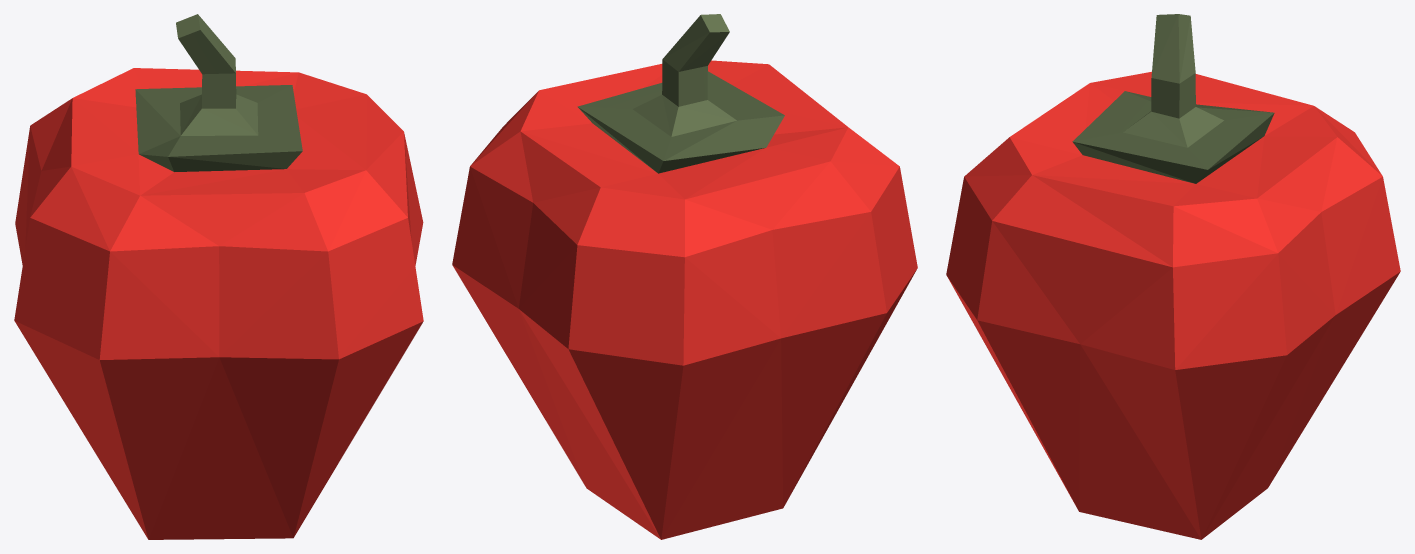
Rendered from SM_Food_Pepper_01.fbx.
The picture shows the model from 3 angles, left to right: view 1: azimuth 30°, elevation 25°; view 2: azimuth 150°, elevation 25°; view 3: azimuth 270°, elevation 25°; orthographic projection. The views are drawn at different scales.
Visible parts, largest first — view 1: SM_Food_Pepper_01; view 2: SM_Food_Pepper_01; view 3: SM_Food_Pepper_01.
Part boxes in pixels (x1=…): SM_Food_Pepper_01: x1=14, y1=14, x2=423, y2=539; SM_Food_Pepper_01: x1=452, y1=14, x2=917, y2=539; SM_Food_Pepper_01: x1=946, y1=14, x2=1400, y2=539.
Bounding box in the file's own units: 12.11 × 14.54 × 12.11.
